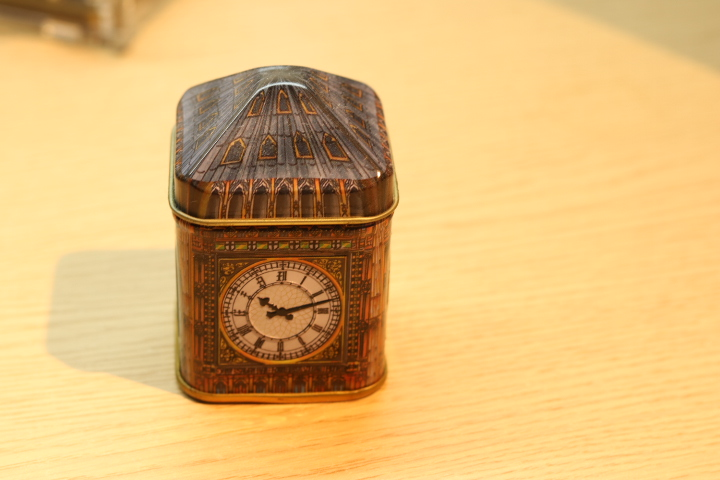Big Ben: (144, 53, 417, 417)
